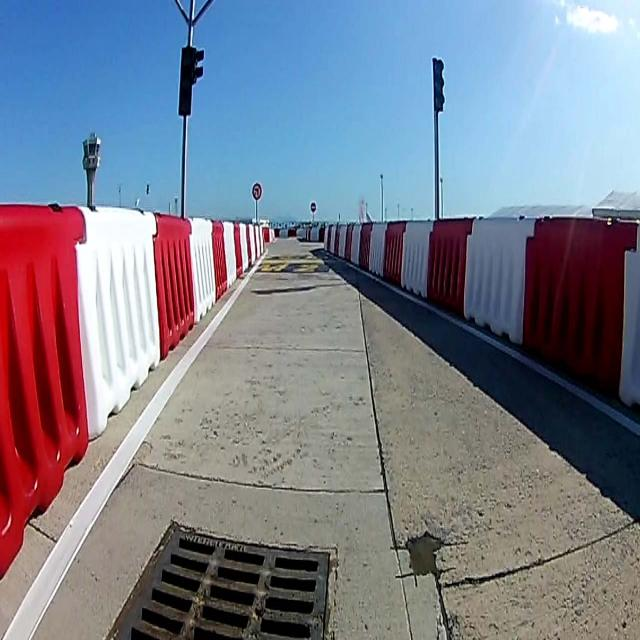soladonulmez: (251, 180, 263, 201)
